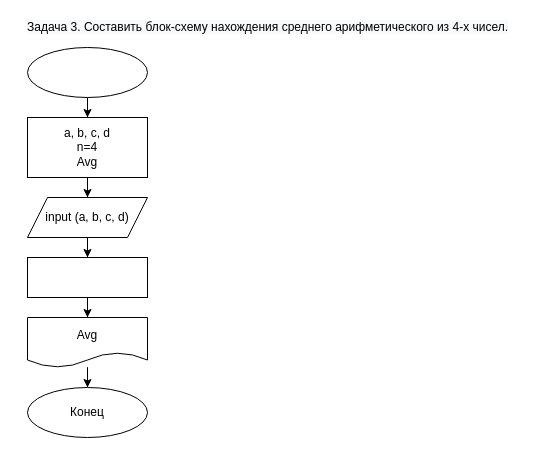
The diagram is 534 pixels wide and 455 high, and some of its shapes have lost their labels. The centre of each missing label's shape, as x and y in pixels:
"Avg=(a+b+c+d)/n" belongs at pixel 87 277.
"Начало" belongs at pixel 87 72.
